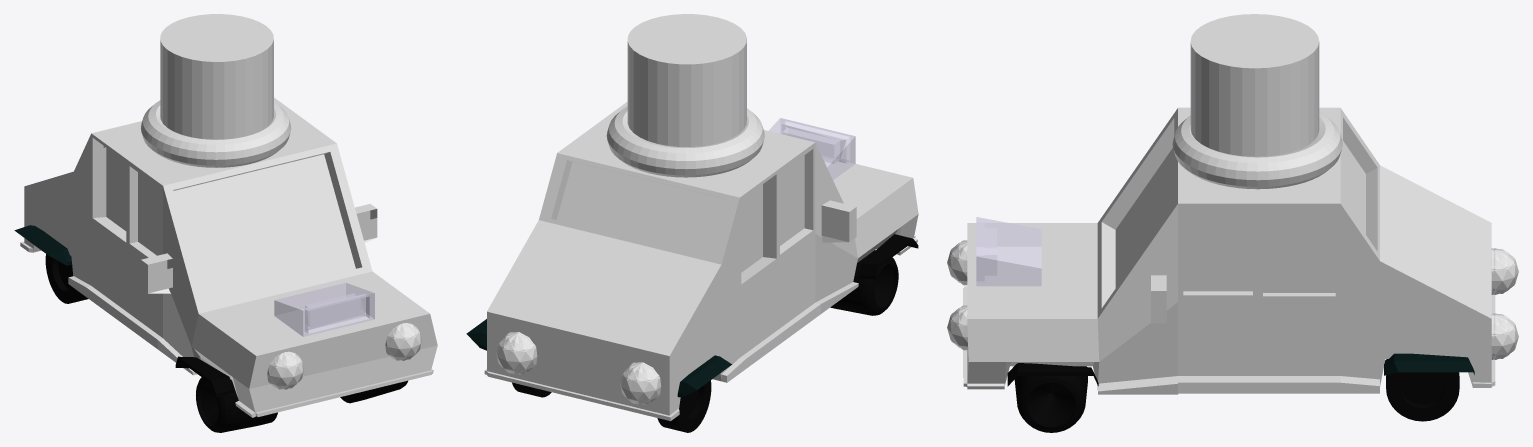
The picture shows the model from 3 angles, left to right: view 1: azimuth 30°, elevation 25°; view 2: azimuth 150°, elevation 25°; view 3: azimuth 270°, elevation 25°; orthographic projection. The views are drawn at different scales.
Visible parts, largest first — view 1: Cube, Cylinder.004, Torus, Cube.003, Cylinder.002, Icosphere, Cube.004, Cylinder.001, Cube.001, Cube.002; view 2: Cube, Cylinder.004, Torus, Icosphere.001, Cube.003, Cylinder.002, Cylinder.001, Cube.004, Cube.002, Cube.001; view 3: Cube, Cylinder.004, Torus, Cube.003, Cylinder.002, Cylinder.001, Icosphere.001, Cube.002, Icosphere, Cube.001, Cube.004.
Part boxes in pixels (<box>): Cube: <box>20,97,437,417</box>; Cylinder.004: <box>160,14,273,139</box>; Torus: <box>141,100,291,167</box>; Cube.003: <box>274,283,374,336</box>; Cylinder.002: <box>196,377,407,432</box>; Icosphere: <box>267,323,421,389</box>; Cube.004: <box>141,204,377,293</box>; Cylinder.001: <box>45,254,88,303</box>; Cube.001: <box>175,356,233,397</box>; Cube.002: <box>14,225,71,265</box>; Cube: <box>484,101,918,421</box>; Cylinder.004: <box>627,14,746,146</box>; Torus: <box>606,106,764,177</box>; Icosphere.001: <box>496,332,661,404</box>; Cube.003: <box>768,118,855,180</box>; Cylinder.002: <box>830,250,898,315</box>; Cylinder.001: <box>512,380,711,432</box>; Cube.004: <box>821,200,856,242</box>; Cube.002: <box>466,319,731,397</box>; Cube.001: <box>858,234,918,279</box>; Cube: <box>963,107,1495,394</box>; Cylinder.004: <box>1190,14,1319,156</box>; Torus: <box>1172,112,1342,189</box>; Cube.003: <box>976,217,1041,286</box>; Cylinder.002: <box>1014,366,1087,432</box>; Cylinder.001: <box>1386,372,1459,421</box>; Icosphere.001: <box>1491,248,1518,359</box>; Cube.002: <box>1384,353,1474,375</box>; Icosphere: <box>947,240,968,350</box>; Cube.001: <box>1007,363,1098,386</box>; Cube.004: <box>1151,275,1166,323</box>.
Size of the model in its own units: 264 by 337 by 504.
